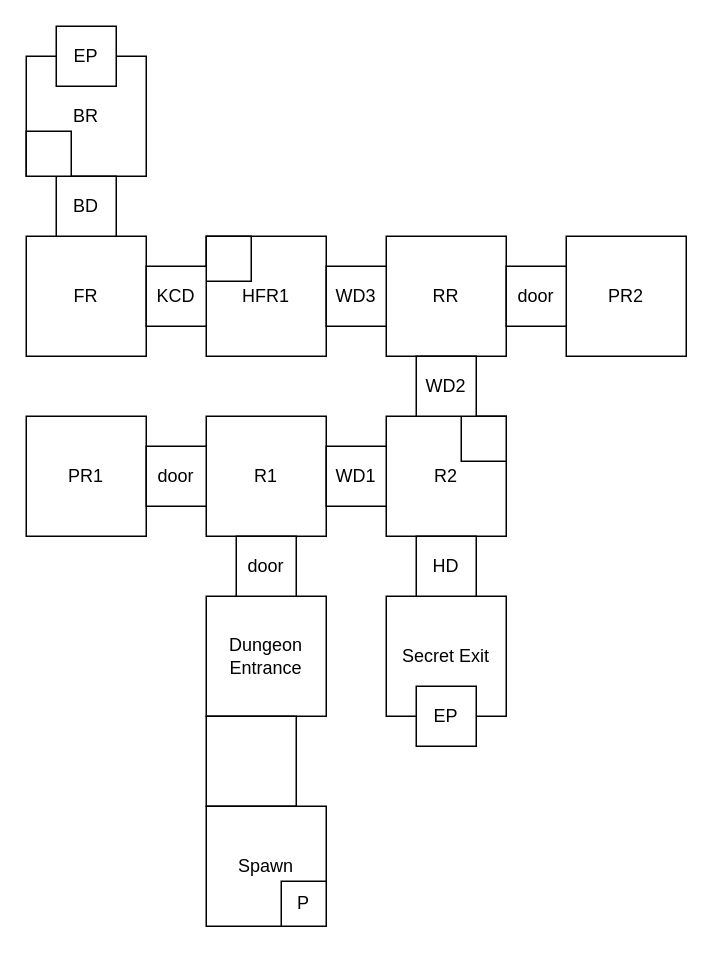
Some shapes in this 713 by 953 pixel diagram are drawn without their labels. Here are the shapes that lost their labels. From the top down, the centre of each, then its label:
pixel 48 153: HE
pixel 228 258: ME
pixel 483 438: LE
pixel 250 760: AR
